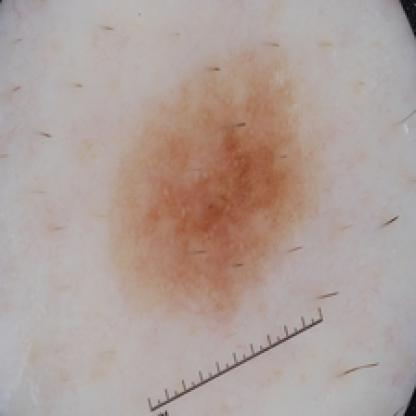malignant: (128, 71, 320, 282)
